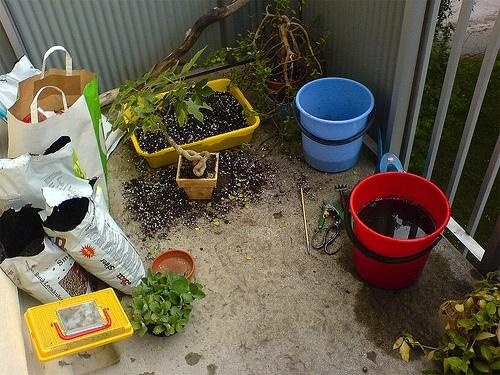pottedplant: (108, 67, 230, 213), (244, 4, 323, 138), (408, 272, 500, 375), (131, 269, 199, 338)
